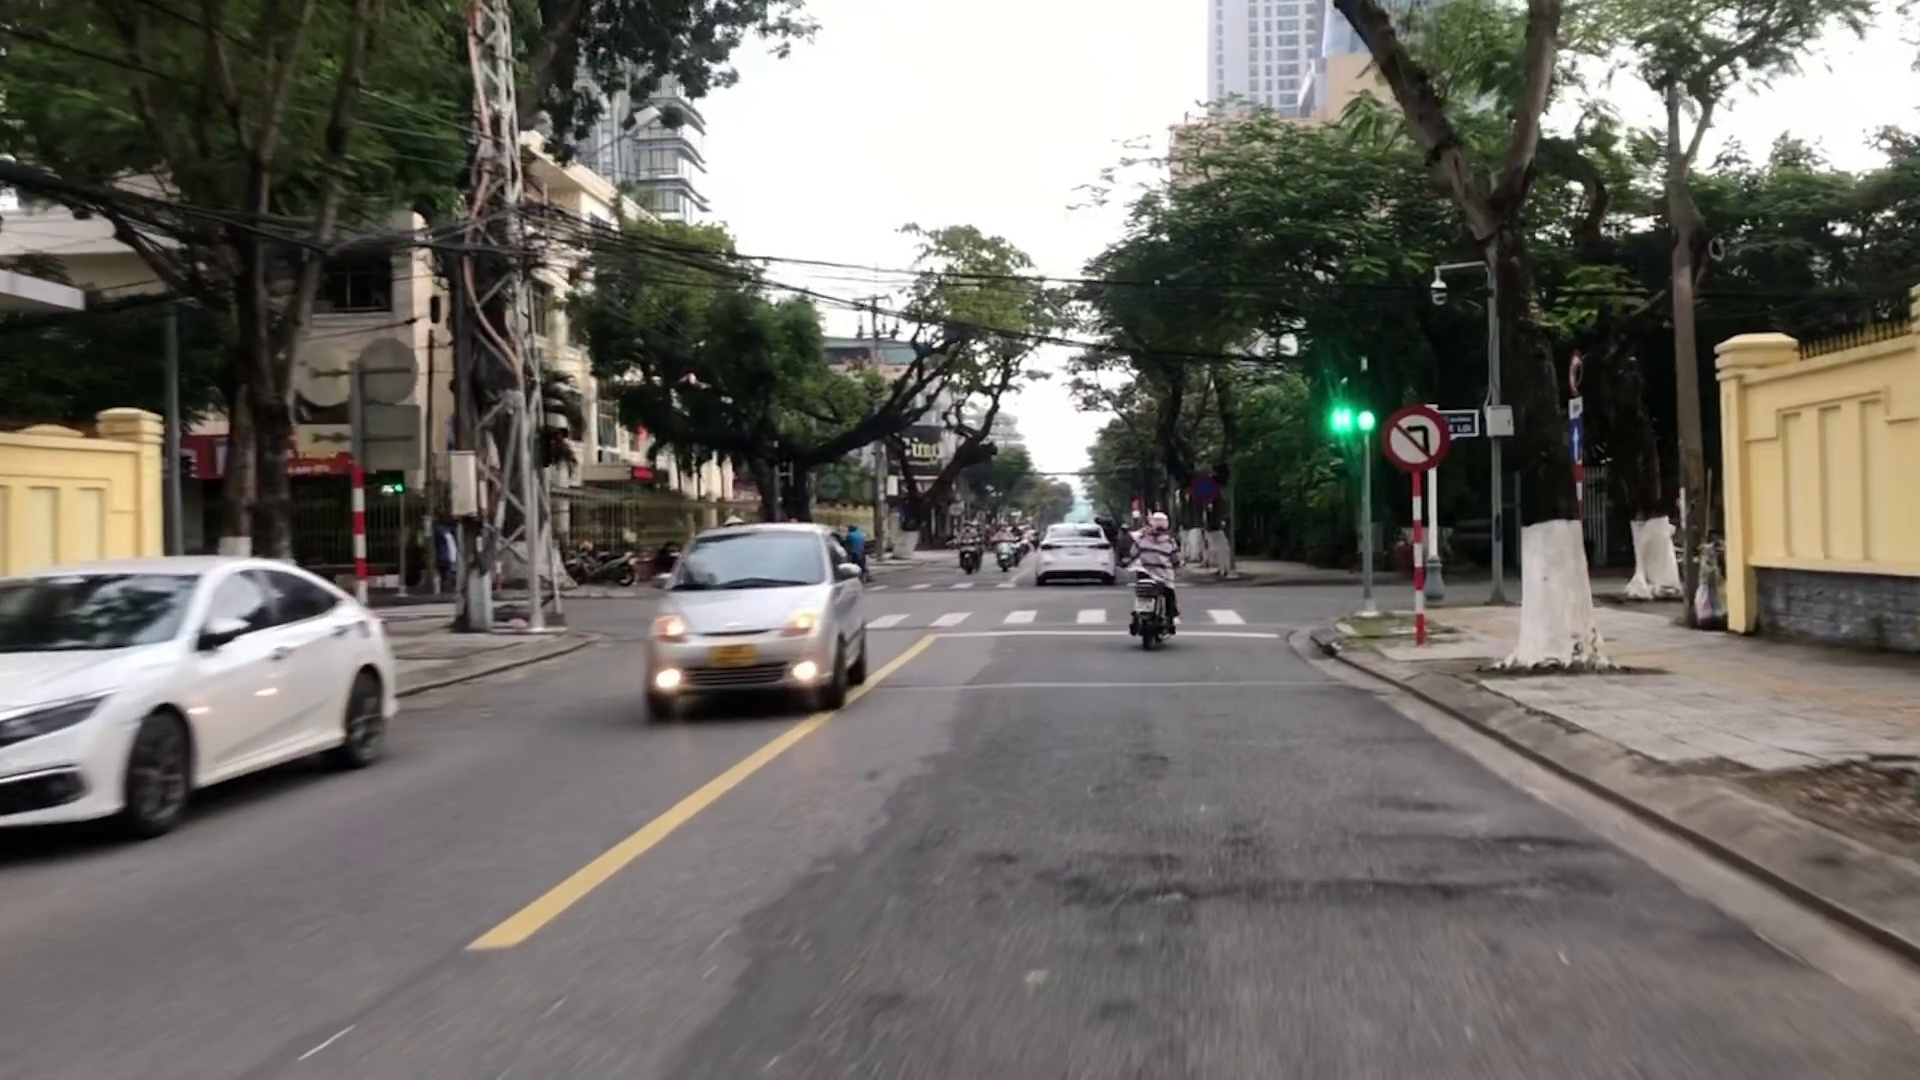Bien khac: (1382, 409, 1452, 465)
